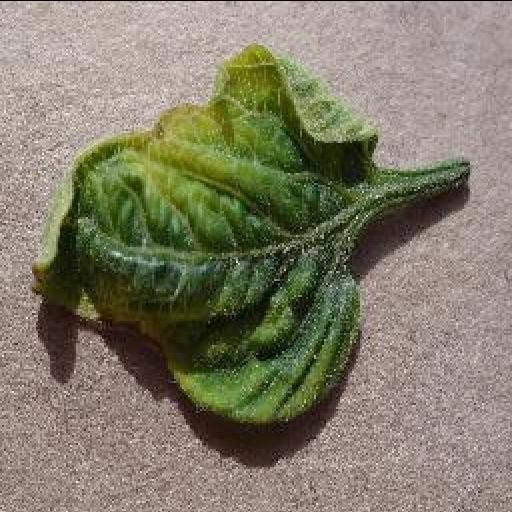disease_tomato: (32, 41, 378, 422)
